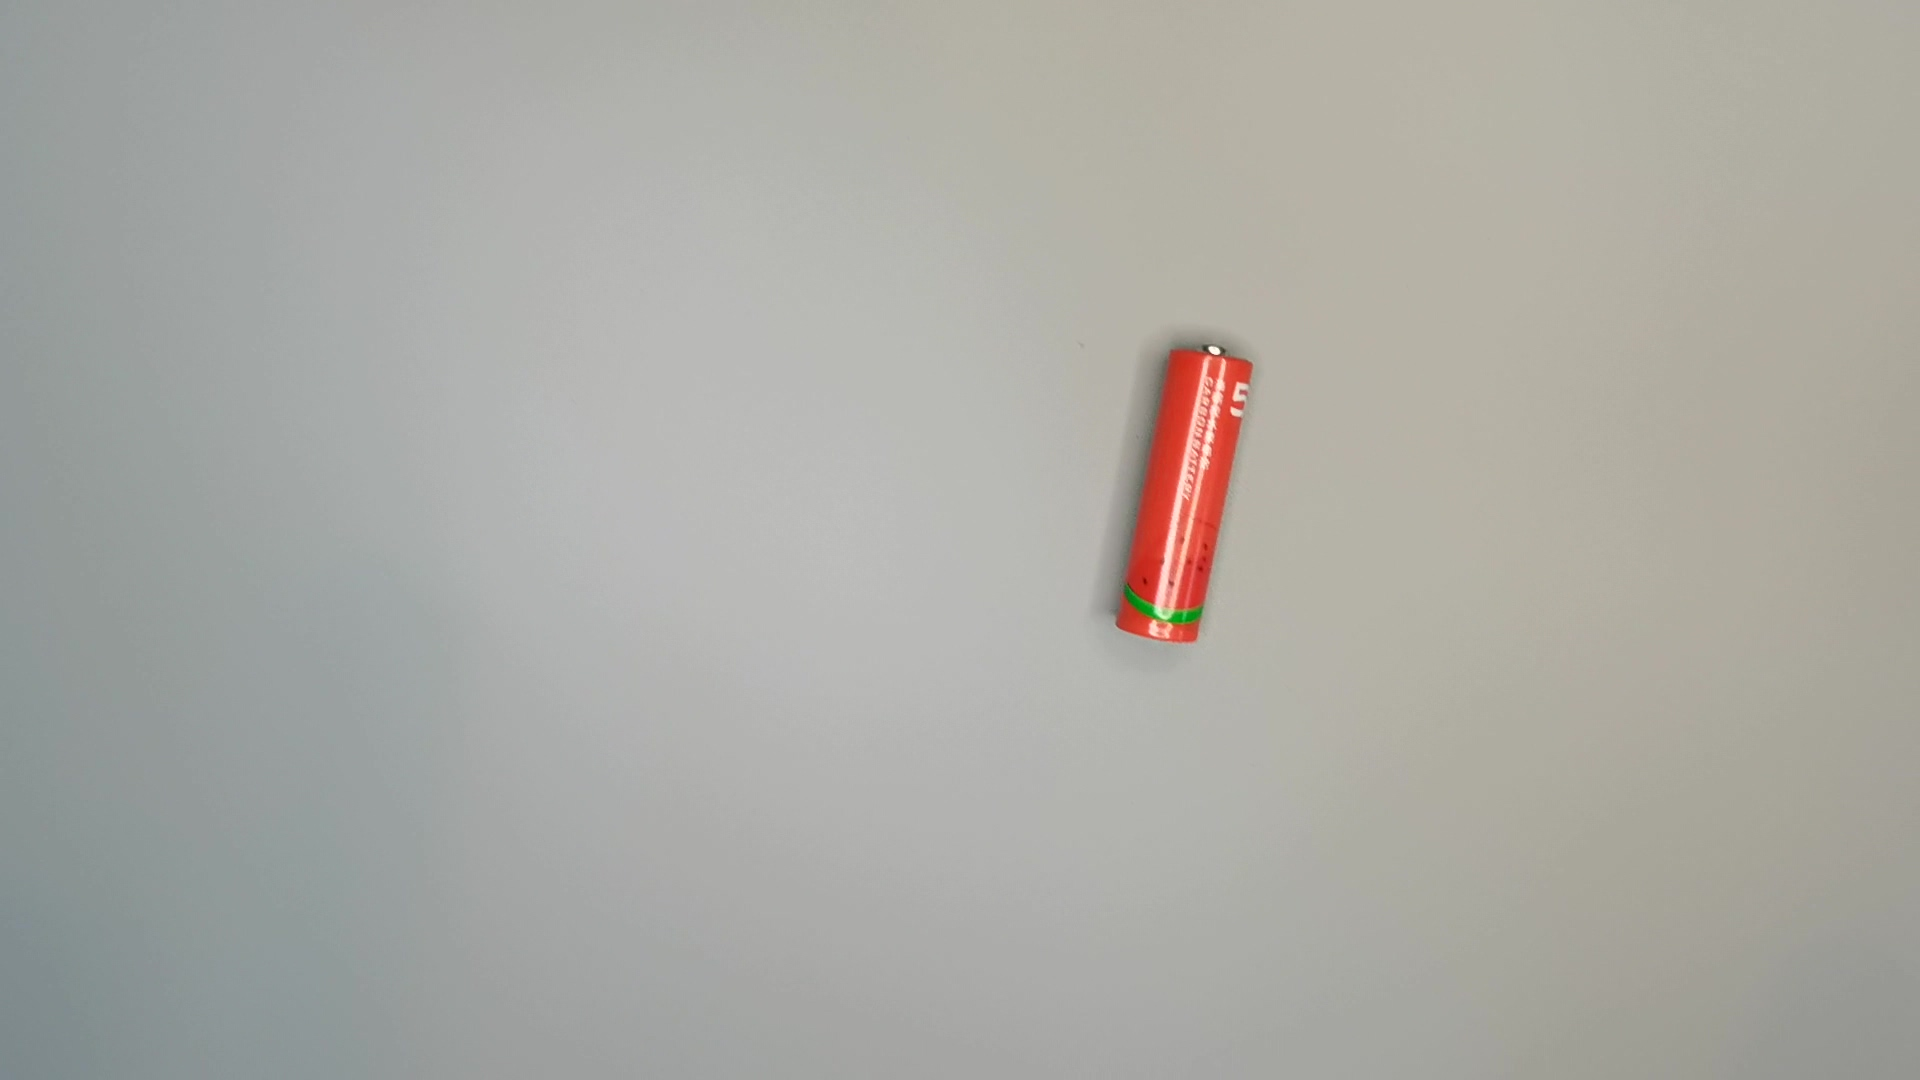battery: (1104, 339, 1261, 653)
